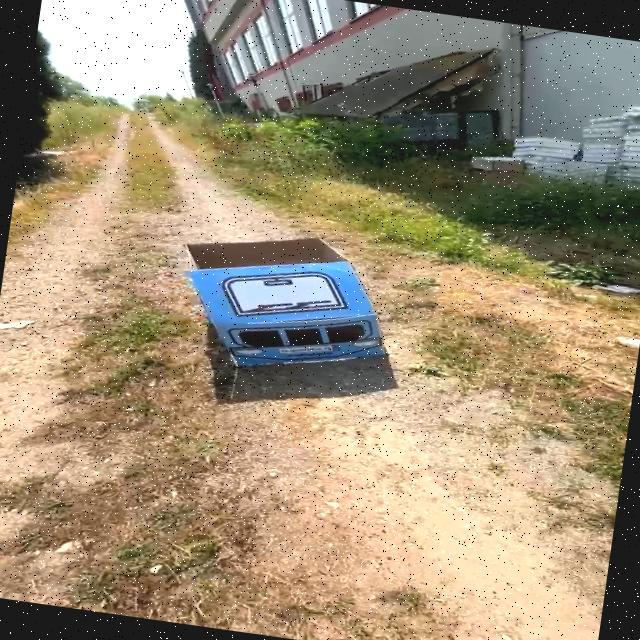blue_car: (148, 204, 436, 407)
